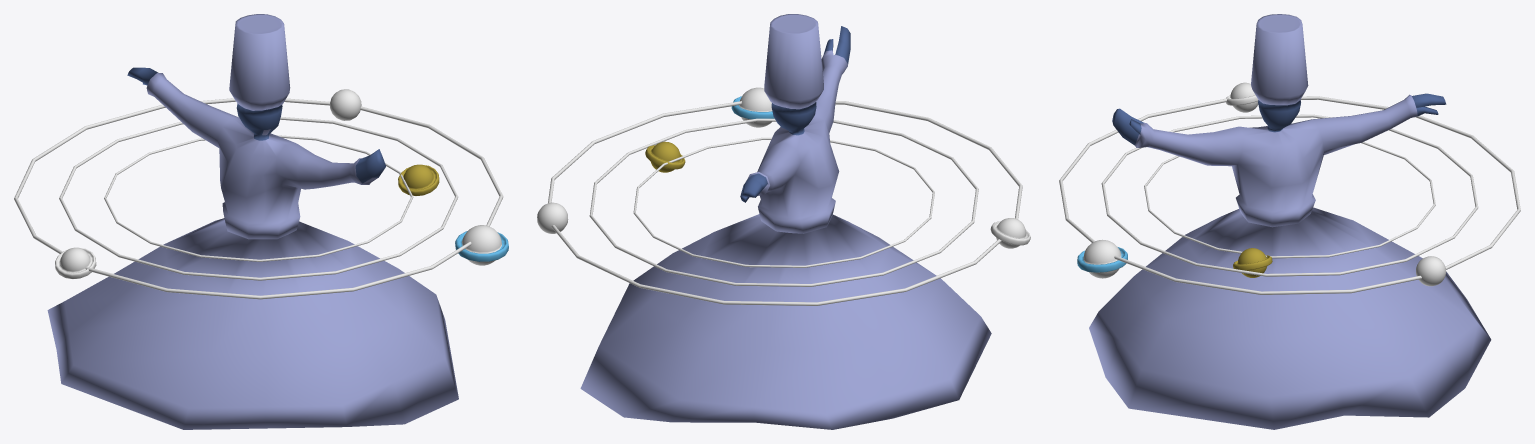
The model's file is SEMAZEN2.fbx.
3 renders of one model, left to right at view 1: azimuth 30°, elevation 25°; view 2: azimuth 150°, elevation 25°; view 3: azimuth 270°, elevation 25°, orthographic. The views are drawn at different scales.
Parts seen in each view (by area): view 1: Cube, Sphere.002; view 2: Cube, Sphere.002; view 3: Cube, Sphere.002.
Part boxes in pixels (left/top/right/bottom): Cube: left=47, top=14, right=458, bottom=429; Sphere.002: left=14, top=89, right=508, bottom=299; Cube: left=580, top=14, right=991, bottom=429; Sphere.002: left=537, top=87, right=1030, bottom=305; Cube: left=1089, top=14, right=1491, bottom=429; Sphere.002: left=1059, top=82, right=1520, bottom=294.
Size of the model in its own units: 287 by 219 by 278.
